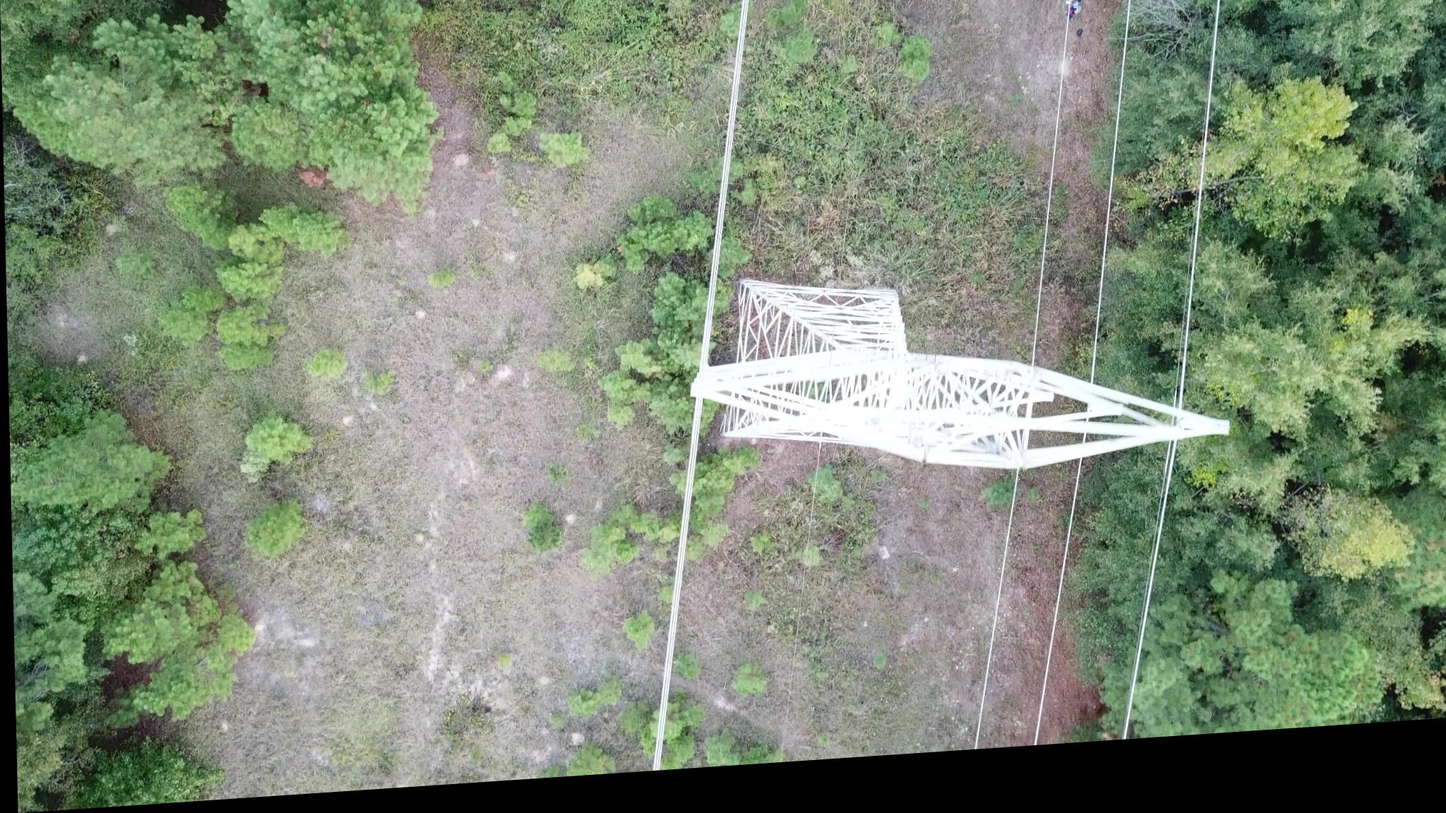tower: (686, 242, 1231, 493)
